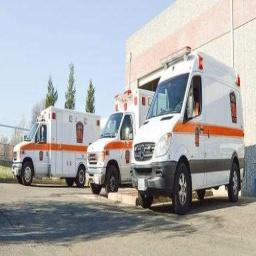ambulance: (132, 47, 243, 213), (87, 89, 153, 194), (12, 107, 99, 186)
